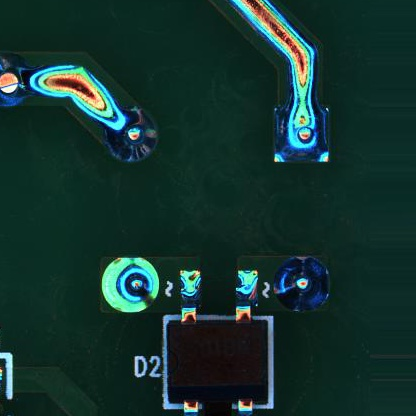spot: (273, 105, 331, 165), (274, 256, 331, 315), (100, 256, 160, 312), (106, 108, 158, 163), (1, 53, 31, 111)
